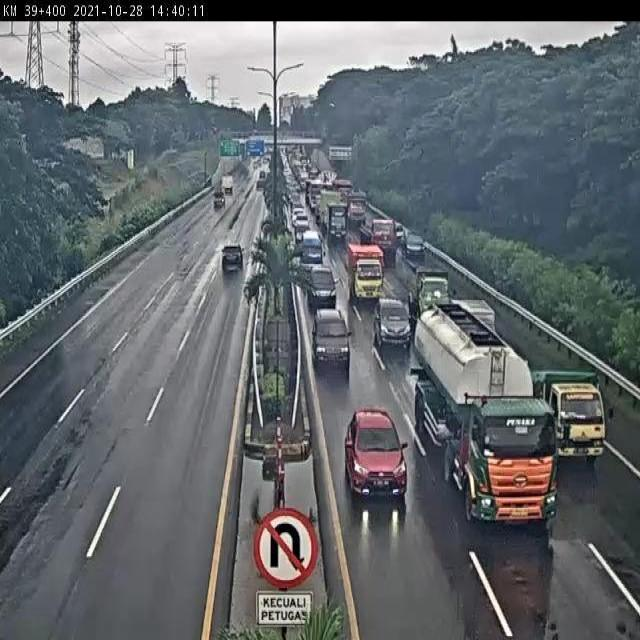ARABA: (344, 409, 408, 499), (312, 308, 354, 375), (369, 296, 417, 353), (307, 266, 340, 314), (402, 230, 426, 262), (220, 244, 243, 269)
KAMYONET: (534, 368, 608, 459), (345, 243, 387, 301), (412, 272, 455, 317)
OTOBUS: (300, 232, 324, 280)
TIR: (415, 296, 560, 521), (361, 215, 399, 261)
